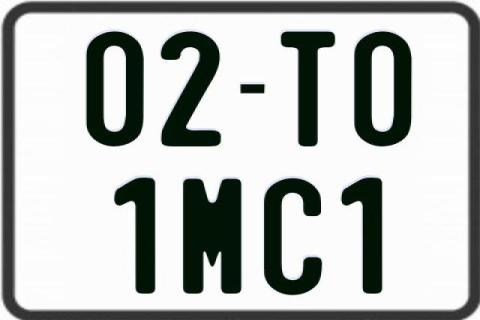0: (354, 29, 418, 149), (160, 30, 222, 146), (83, 31, 142, 150), (114, 175, 161, 293), (340, 177, 384, 295)
C: (263, 178, 325, 298)
M: (181, 178, 242, 296)
T: (278, 30, 334, 146)
